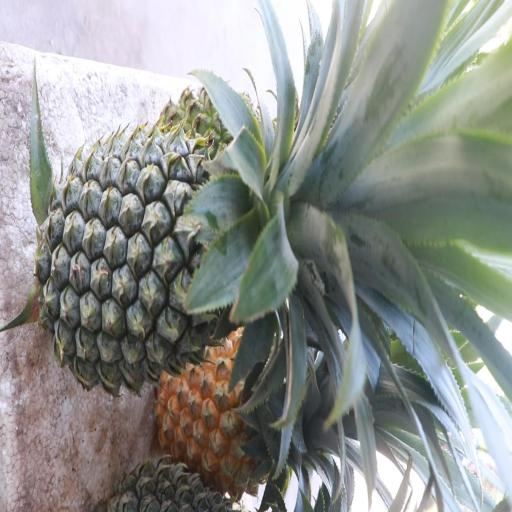Pineapple - v8 v1: (161, 326, 298, 494)
